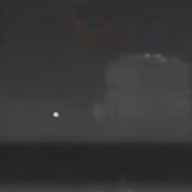Target: (53, 111, 60, 118)
